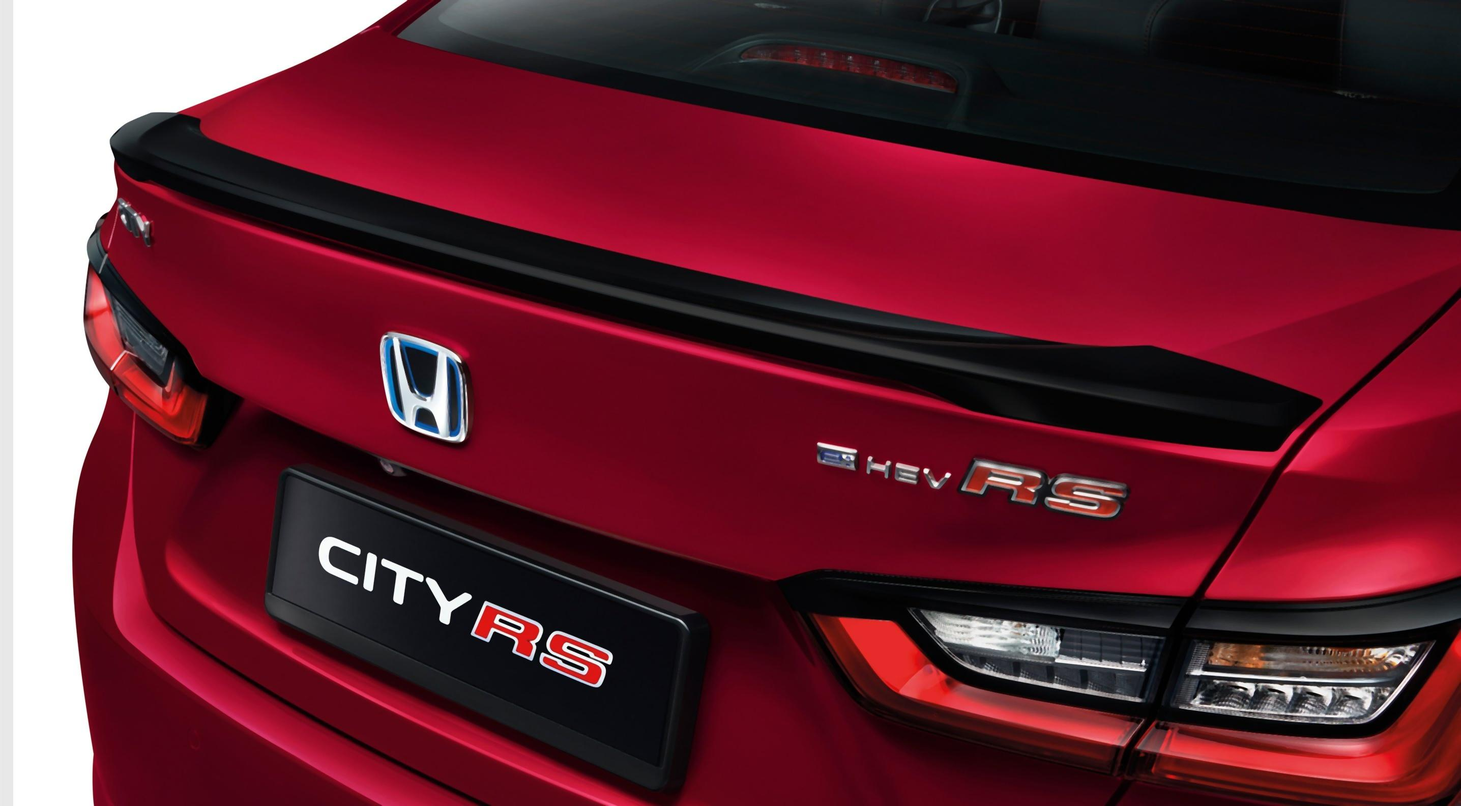Car boot: (105, 8, 1461, 806)
Rear bumper: (41, 367, 479, 806)
Rear light - -L-: (54, 209, 250, 465)
Rear light - -R-: (761, 552, 1461, 806)
